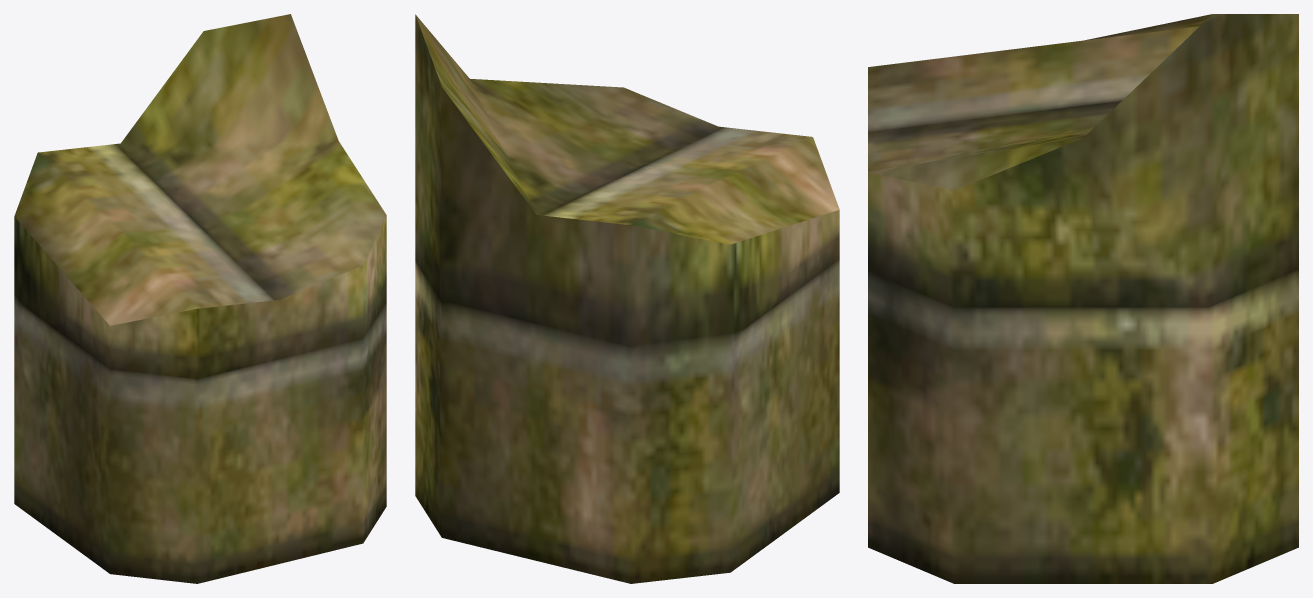
Rendered from OVERHILL_A_01_LINE401.fbx.
3 views of the same model, side by side, from view 1: azimuth 30°, elevation 25°; view 2: azimuth 150°, elevation 25°; view 3: azimuth 270°, elevation 25° (orthographic). The views are drawn at different scales.
Visible parts, largest first — view 1: OVERHILL_A_01_LINE401; view 2: OVERHILL_A_01_LINE401; view 3: OVERHILL_A_01_LINE401.
Boxes of the visible parts, x1,y1,x2,y2 form: OVERHILL_A_01_LINE401: (14, 14, 386, 583); OVERHILL_A_01_LINE401: (415, 14, 839, 583); OVERHILL_A_01_LINE401: (868, 14, 1298, 583).
Bounding box in the file's own units: 9604 × 14025 × 9604.
1 material, 1 textured.
